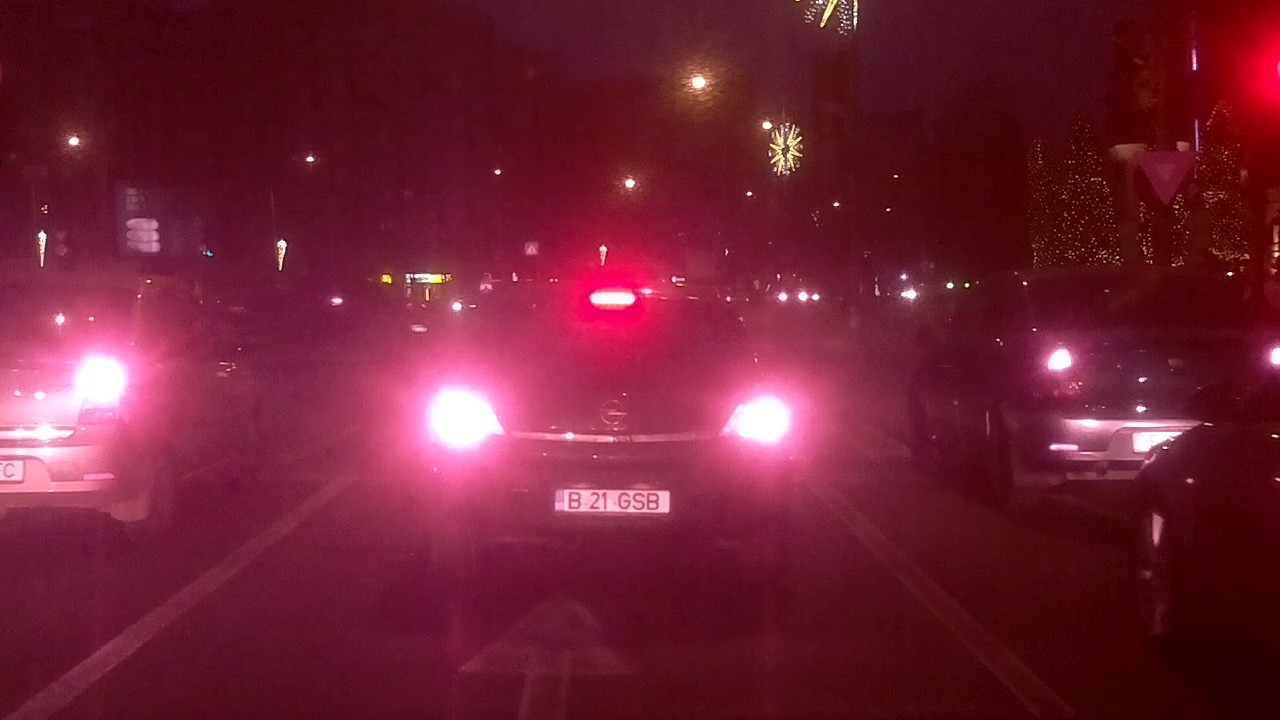license-plate: (549, 485, 673, 515)
